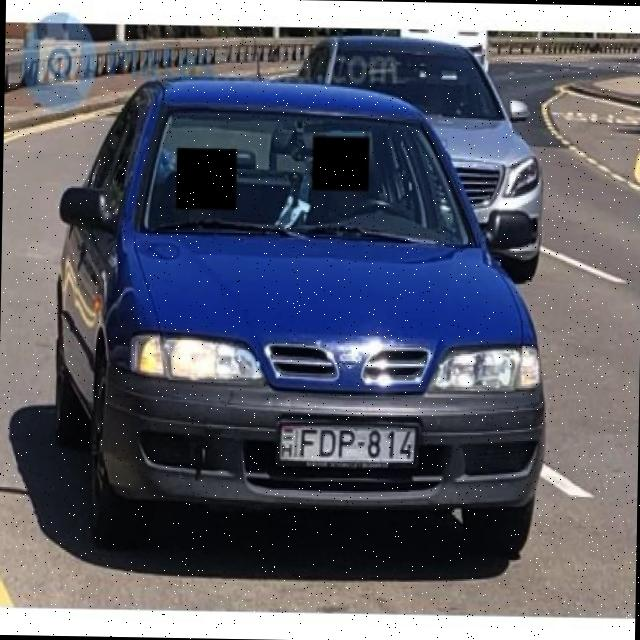licence: (274, 411, 420, 476)
